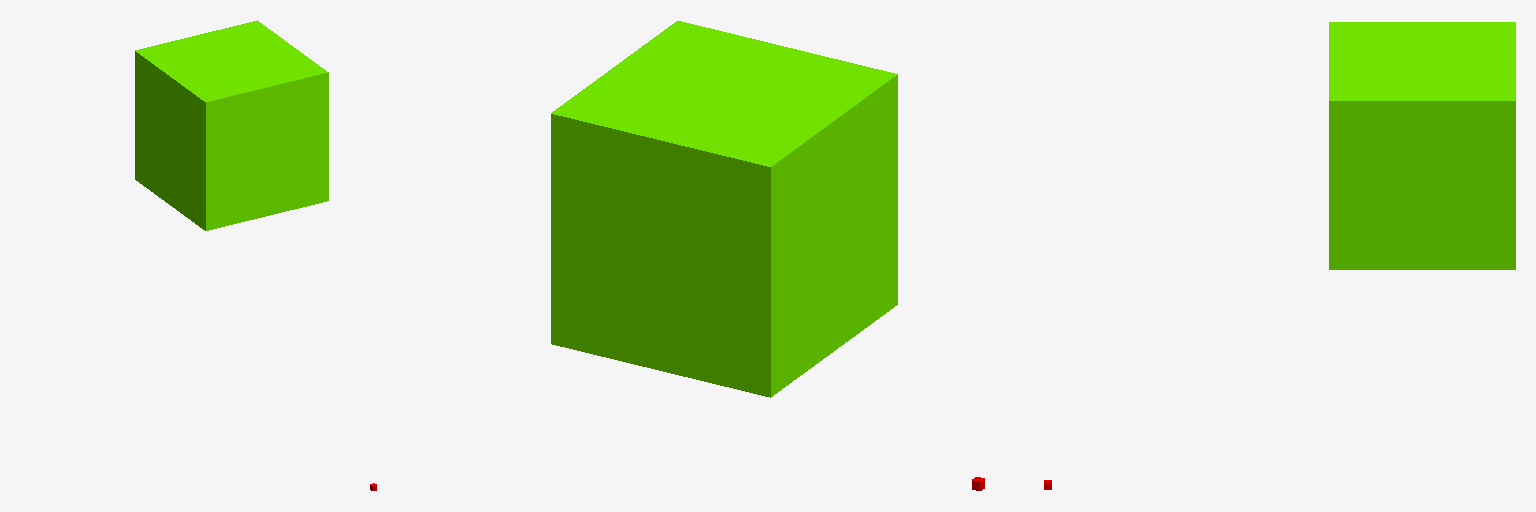
The robot description file, URDF, robot "obstacle":
<robot name="obstacle" xmlns:xacro="http://ros.org/wiki/xacro">>

<link name="centre1">
    <contact>
      <lateral_friction value="1.0"/>
      <rolling_friction value="0.0"/>
      <contact_cfm value="0.0"/>
      <contact_erp value="1.0"/>
    </contact>
    <inertial>
      <origin rpy="0 0 0" xyz="0 0 0"/>
      <mass value="0.0"/>
      <inertia ixx="1" ixy="0" ixz="0" iyy="1" iyz="0" izz="1"/>
    </inertial>
    <visual>
      <origin rpy="0 0 0" xyz="0 0 0"/>
      <geometry>
		<box size="0.01 0.01 0.01"/>
      </geometry>
      <material name="red">
        <color rgba="1 0 0 1"/>
      </material>
    </visual>

  </link>

<link name="obstacle">

	<contact>
      <lateral_friction value="1000000.0"/>
      <rolling_friction value="1000000.0"/>
      <contact_cfm value="1000000.0"/>
      <contact_erp value="1000000.0"/>
    </contact>

    <inertial>
      <origin rpy="0 0 0" xyz="0 0 0"/>
      <mass value="0.2"/>
      <inertia ixx="1" ixy="0" ixz="0" iyy="1" iyz="0" izz="1"/>
    </inertial>
    <visual>
      <origin rpy="0 0 0" xyz="0 0.5 0.5"/>
      <geometry>
		<box size="0.25 0.25 0.25"/>
      </geometry>
      <material name="green">
        <color rgba="0.5 1 0 1"/>
      </material>
    </visual>
    <collision>
      <origin rpy="0 0 0" xyz="0 0.5 0.5"/>
      <geometry>
		<box size="0.25 0.25 0.25"/>
      </geometry>
    </collision>
  </link>

 <joint name="joint1" type="fixed">
    <parent link="centre1"/>
    <child link="obstacle"/>
    <origin xyz="0 0 0" rpy="0 0 0" />
    <axis xyz="0 0 1" />
    <!--<limit effort="100" lower="-2.2" upper="0.7" velocity="0.5"/>-->
  </joint>

</robot>

--- Render facts (derived) ---
Views: 3 orthographic renders of the robot side by side, from view 1: azimuth 30°, elevation 25°; view 2: azimuth 150°, elevation 25°; view 3: azimuth 270°, elevation 25°.
Robot: obstacle — 2 links, 1 joints (1 fixed); root link centre1; default pose: all joints at 0.
Links seen in each view (by area): view 1: obstacle; view 2: obstacle; view 3: obstacle.
Boxes of the visible links, x1=… form: obstacle: x1=135, y1=20, x2=328, y2=230; obstacle: x1=551, y1=21, x2=897, y2=397; obstacle: x1=1329, y1=22, x2=1515, y2=269.
Bounding box of the posed robot: 0.25 × 0.63 × 0.63 m (x, y, z).
Geometry: primitives only (box / cylinder / sphere), no mesh files.